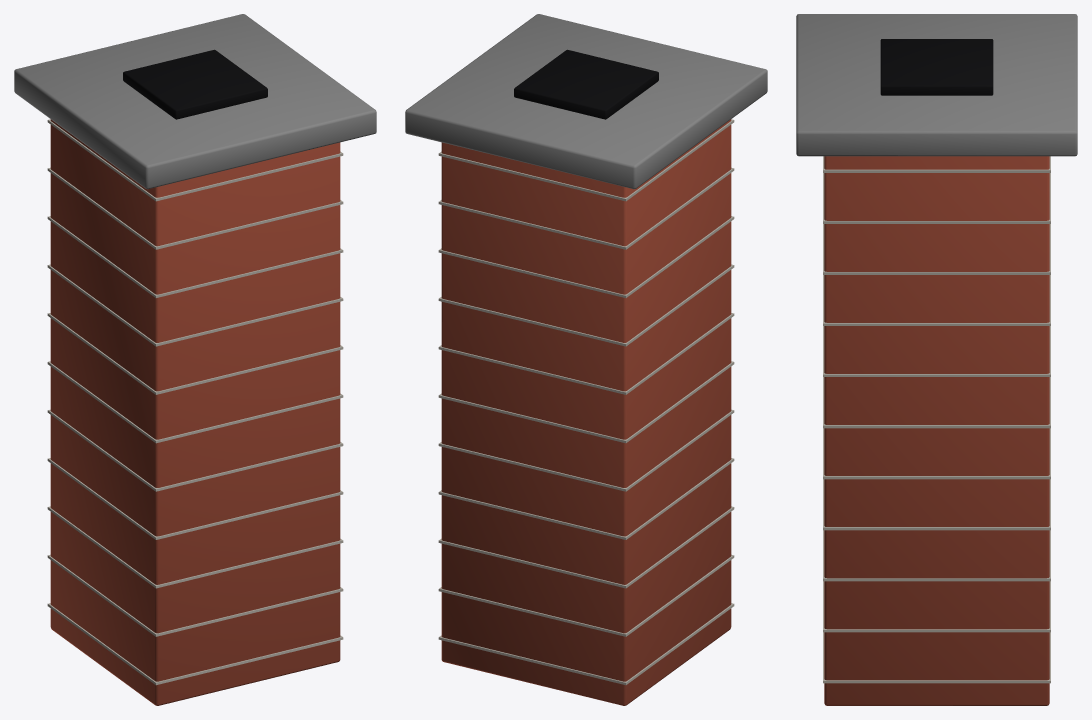
The model's file is Chimney.glb.
3 renders of one model, left to right at view 1: azimuth 30°, elevation 25°; view 2: azimuth 150°, elevation 25°; view 3: azimuth 270°, elevation 25°, orthographic. The views are drawn at different scales.
Parts seen in each view (by area): view 1: Chimney; view 2: Chimney; view 3: Chimney.
Part boxes in pixels (box(x1,y1,x2,y2)): Chimney: box(14, 14, 376, 705); Chimney: box(405, 14, 767, 705); Chimney: box(796, 14, 1077, 705).
Size of the model in its own units: 1 by 2.34 by 1.
